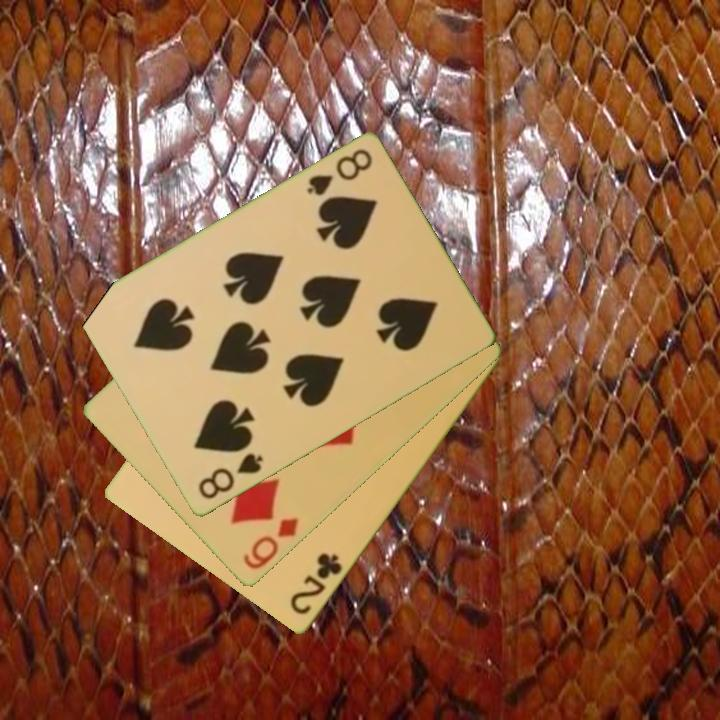2c: (286, 549, 346, 619)
6d: (239, 514, 302, 573)
8s: (302, 145, 375, 200), (194, 450, 266, 503)
